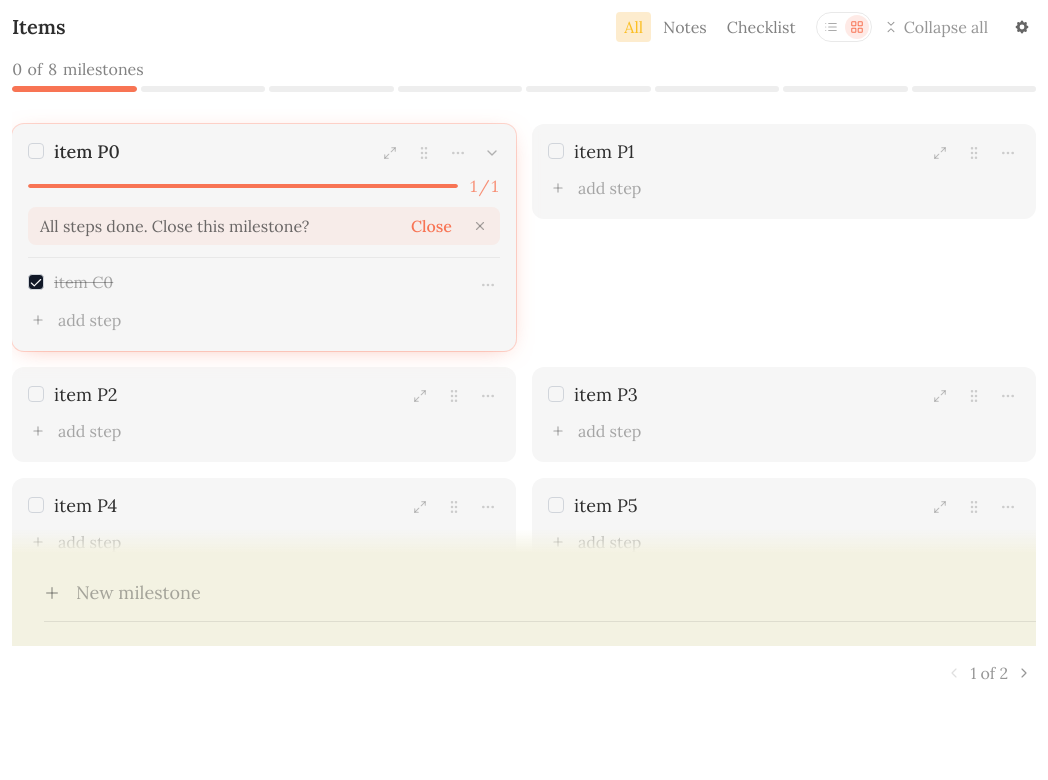
Test: Todo list / blocks toggle › should page the blocks at six where the same list needs no pages
Expected: the text "item P0" is shown, [54, 140, 120, 163]
Expected: the text with test id "page-counter" reads "1 of 2", [970, 662, 1008, 684]
Click the button named "Next page".
click(1024, 673)  # box [1016, 665, 1032, 681]
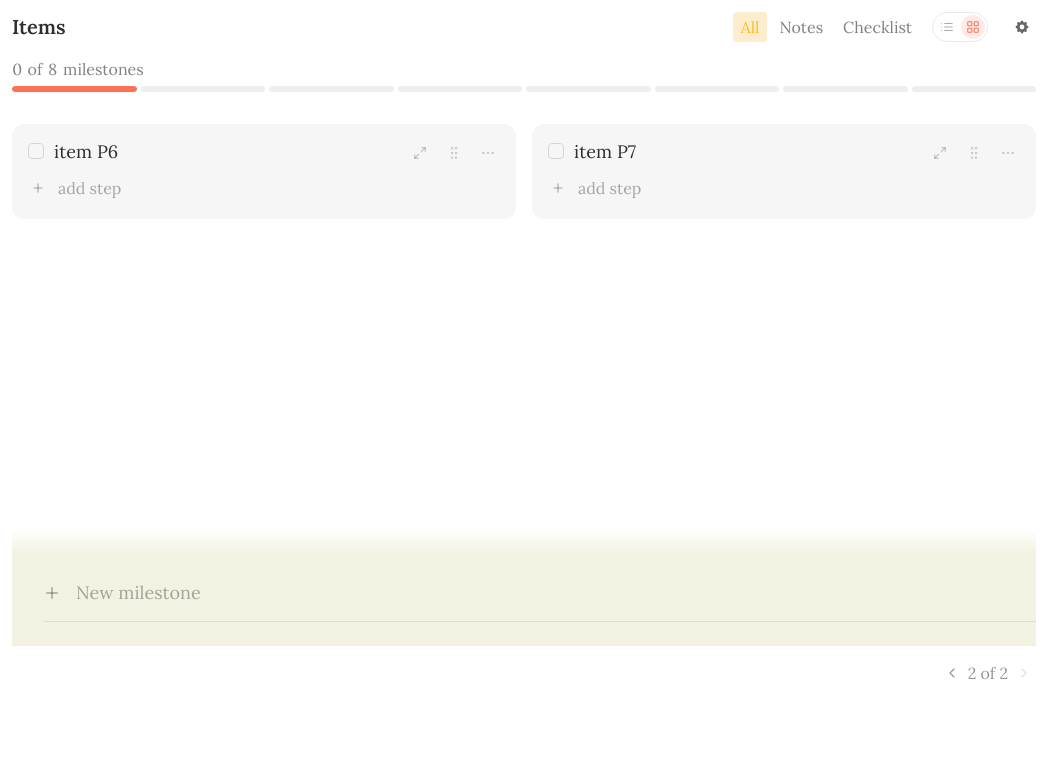
Click the button named "Checklist".
click(947, 27)  # box [935, 15, 959, 39]
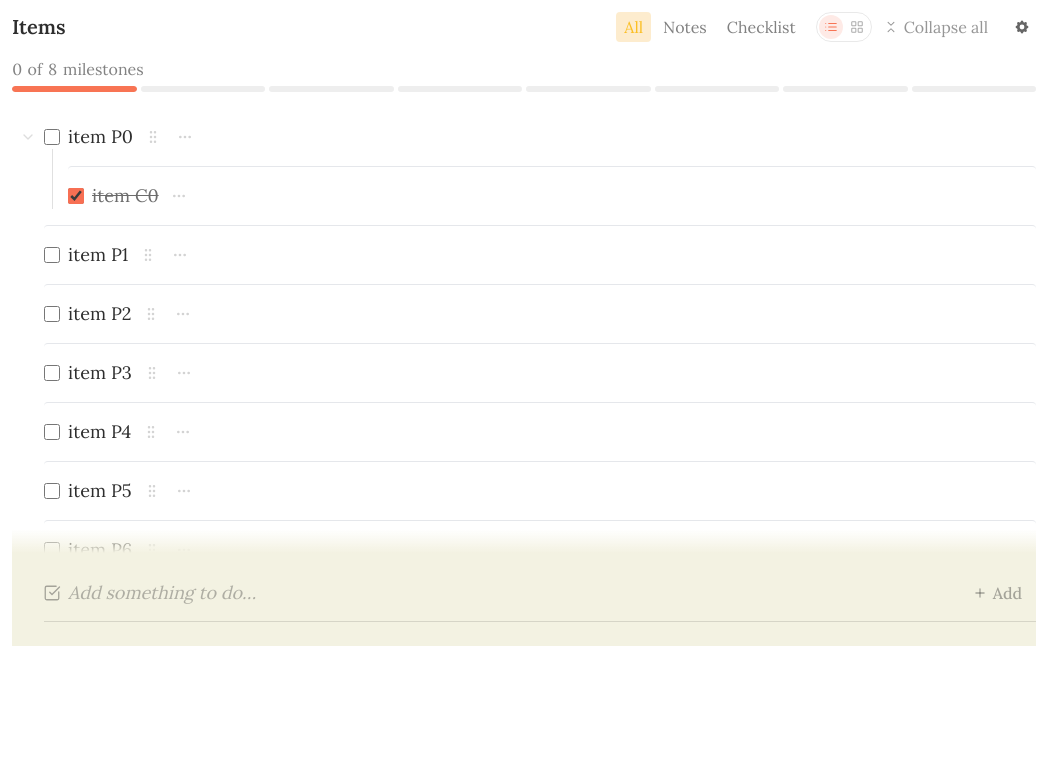
Now the text with test id "page-counter" is gone
